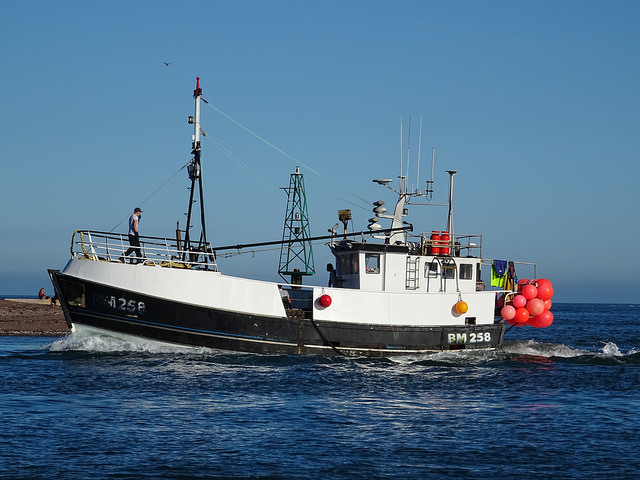fishing_boat: (51, 81, 549, 361)
